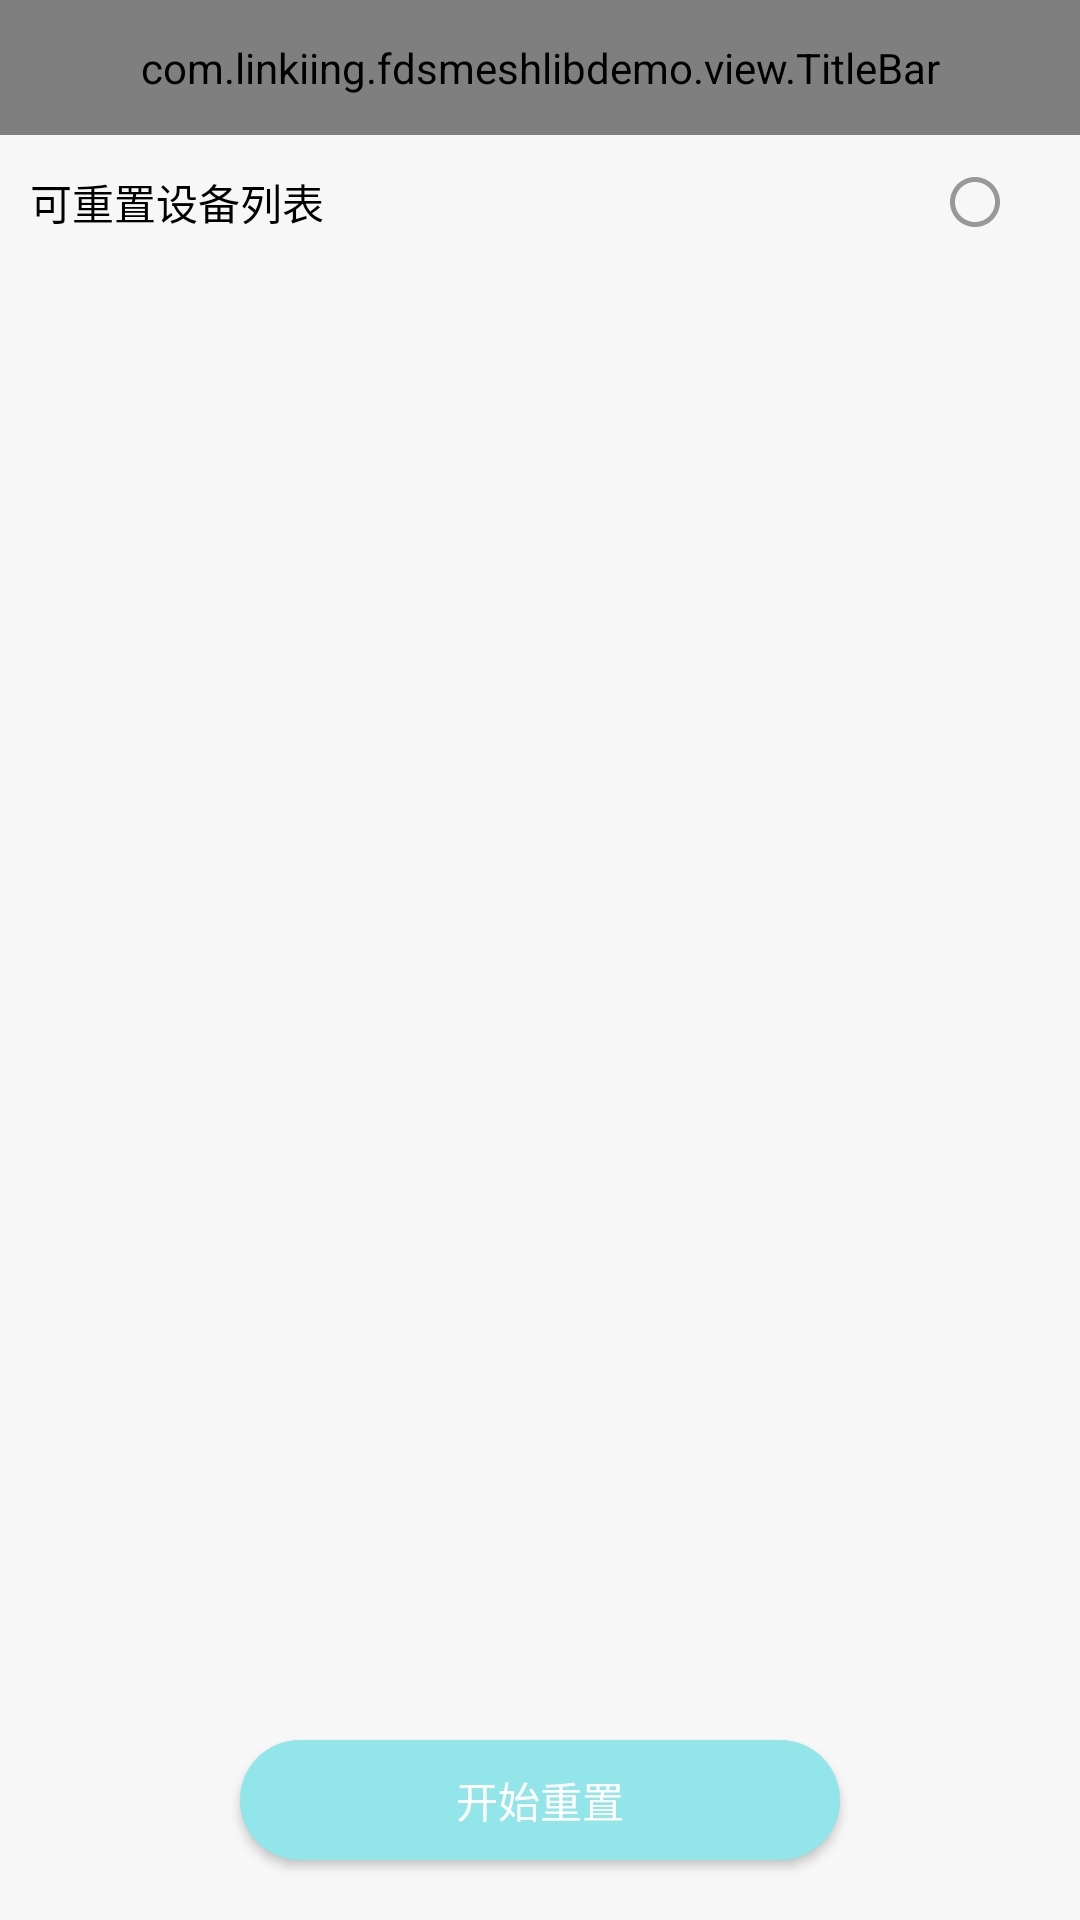

Icons on this 1080 x 1920 Android screen, each with the point to tap as (x,y):
checked off: (975,202)
